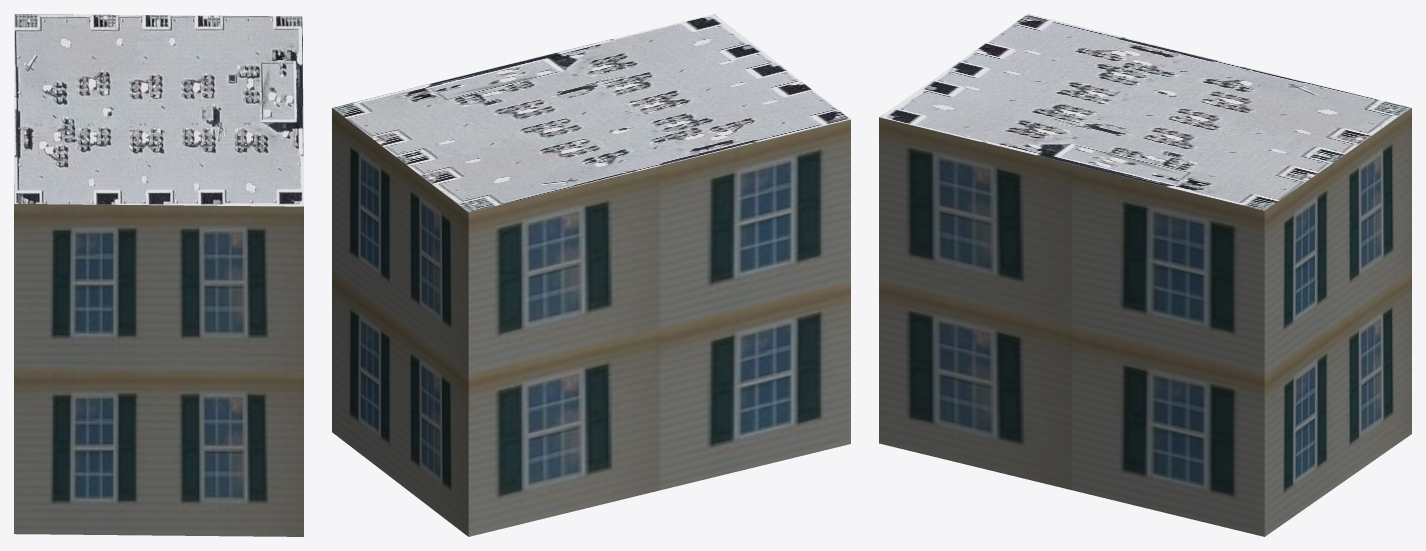
File: ResTex__601.fbx
3 views of the same model, side by side, from view 1: azimuth 30°, elevation 25°; view 2: azimuth 150°, elevation 25°; view 3: azimuth 270°, elevation 25° (orthographic).
Visible parts, largest first — view 1: CityEngineMaterial_7_m, CityEngineMaterial_15_m; view 2: CityEngineMaterial_7_m, CityEngineMaterial_15_m; view 3: CityEngineMaterial_7_m, CityEngineMaterial_15_m.
Boxes of the visible parts, x1,y1,x2,y2 form: CityEngineMaterial_7_m: [14, 204, 303, 536]; CityEngineMaterial_15_m: [14, 14, 303, 206]; CityEngineMaterial_7_m: [332, 108, 850, 536]; CityEngineMaterial_15_m: [332, 14, 850, 212]; CityEngineMaterial_7_m: [879, 108, 1411, 536]; CityEngineMaterial_15_m: [879, 14, 1411, 210].
Bounding box in the file's own units: 7.76 × 6 × 8.88.
Materials: 2 (2 with a texture image).
